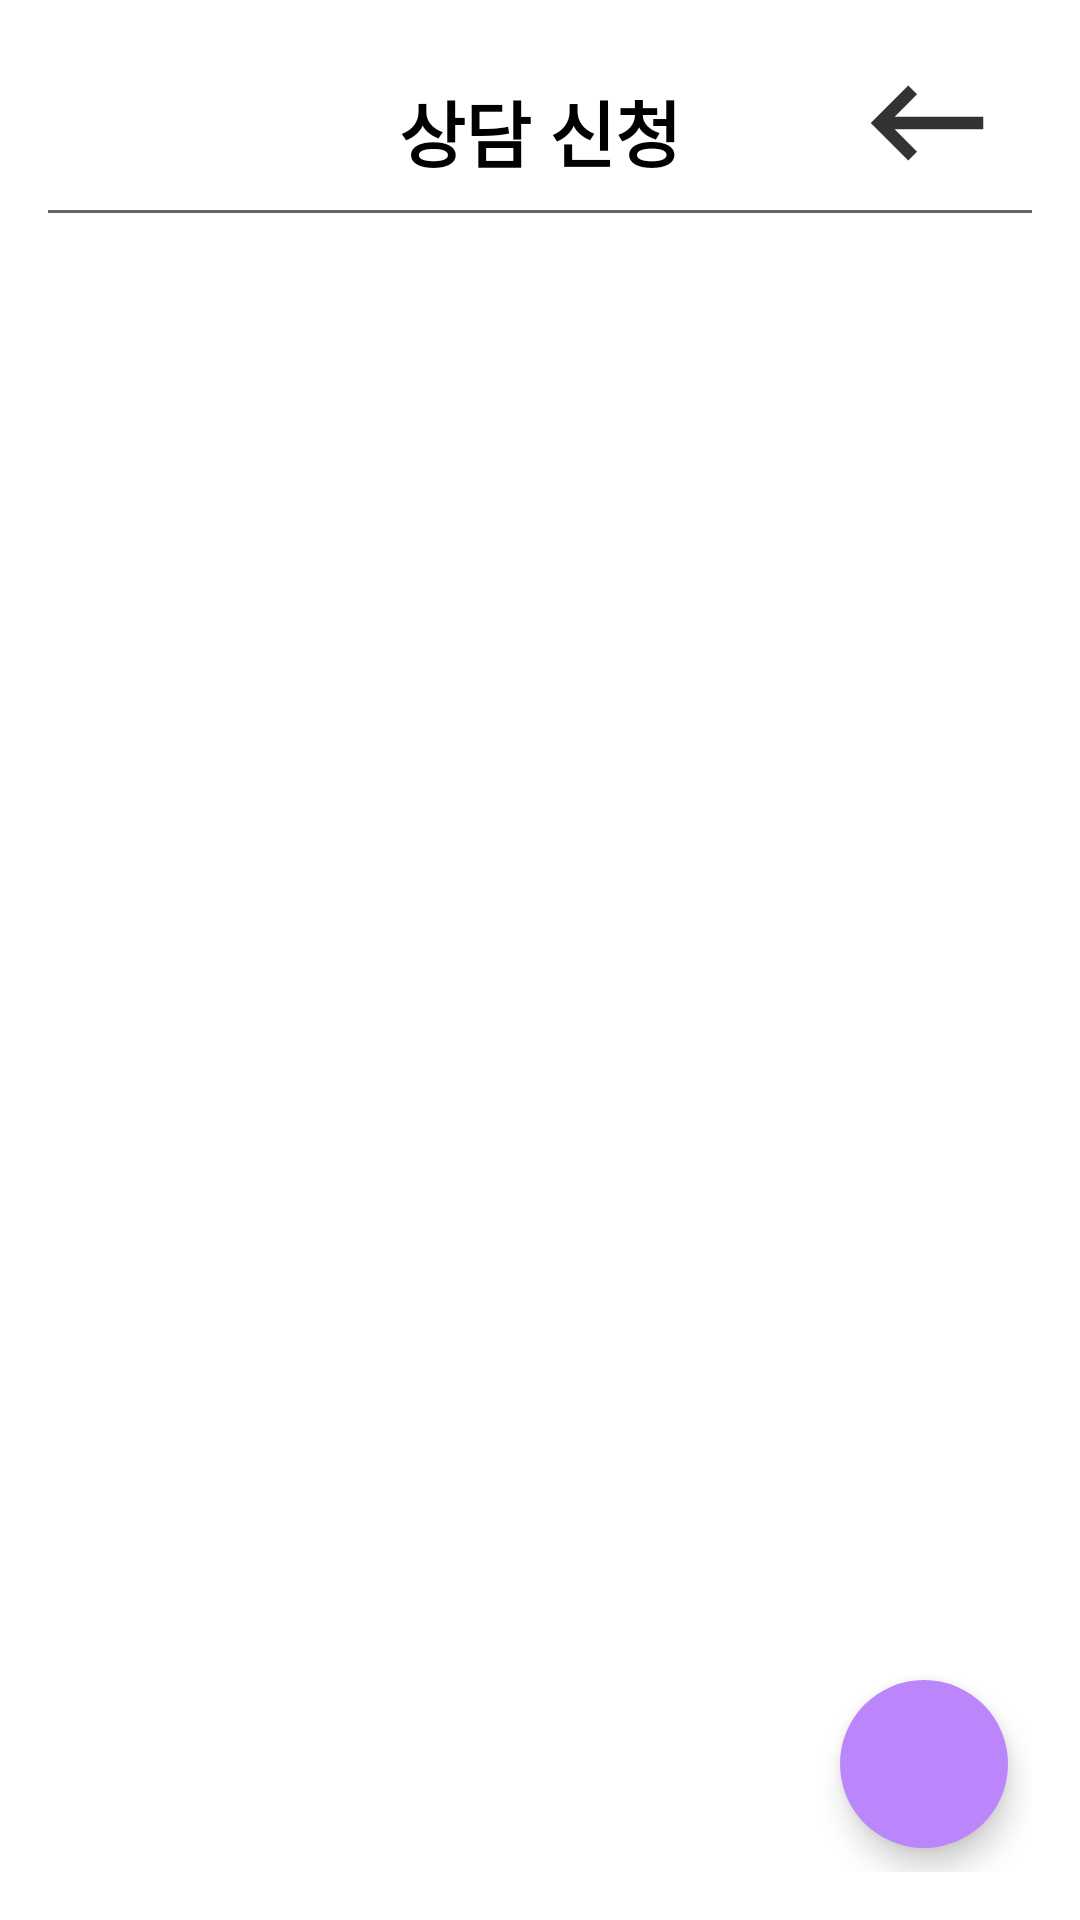

Named icons in this screenshot (1080x1920) and their bounding boxes, box=[x1, y1, x2, y2]:
backspace: box=[871, 85, 984, 161]
